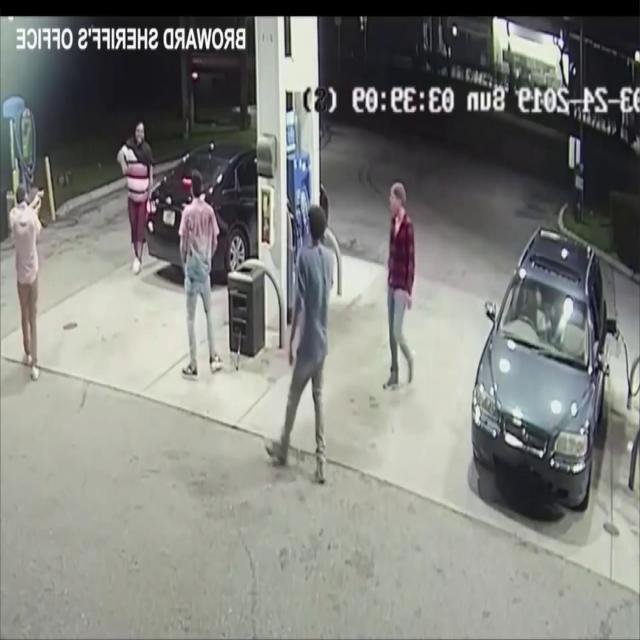weapon: (36, 186, 49, 196)
